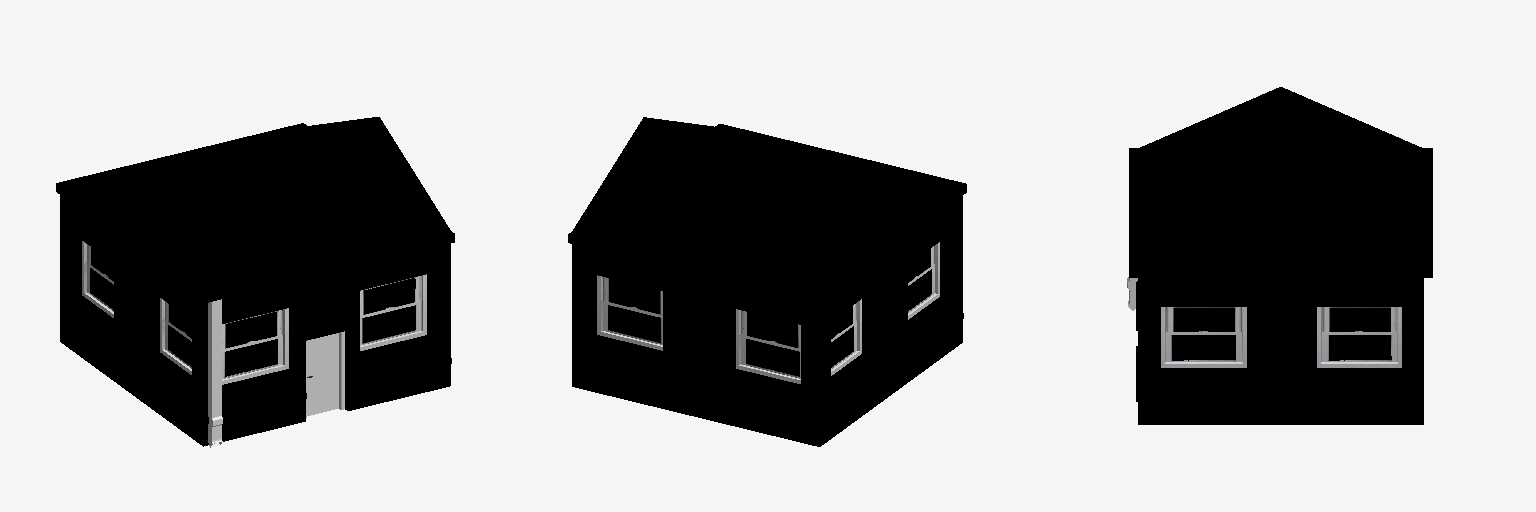
3 renders of one model, left to right at view 1: azimuth 30°, elevation 25°; view 2: azimuth 150°, elevation 25°; view 3: azimuth 270°, elevation 25°, orthographic.
Visible parts, largest first — view 1: polySurface1; view 2: polySurface1; view 3: polySurface1.
Part boxes in pixels (bbox=[...]): polySurface1: bbox=[56, 117, 454, 447]; polySurface1: bbox=[568, 117, 966, 446]; polySurface1: bbox=[1127, 87, 1432, 424].
Size of the model in its own units: 9.29 by 7.82 by 9.92.
7 materials, 1 textured.